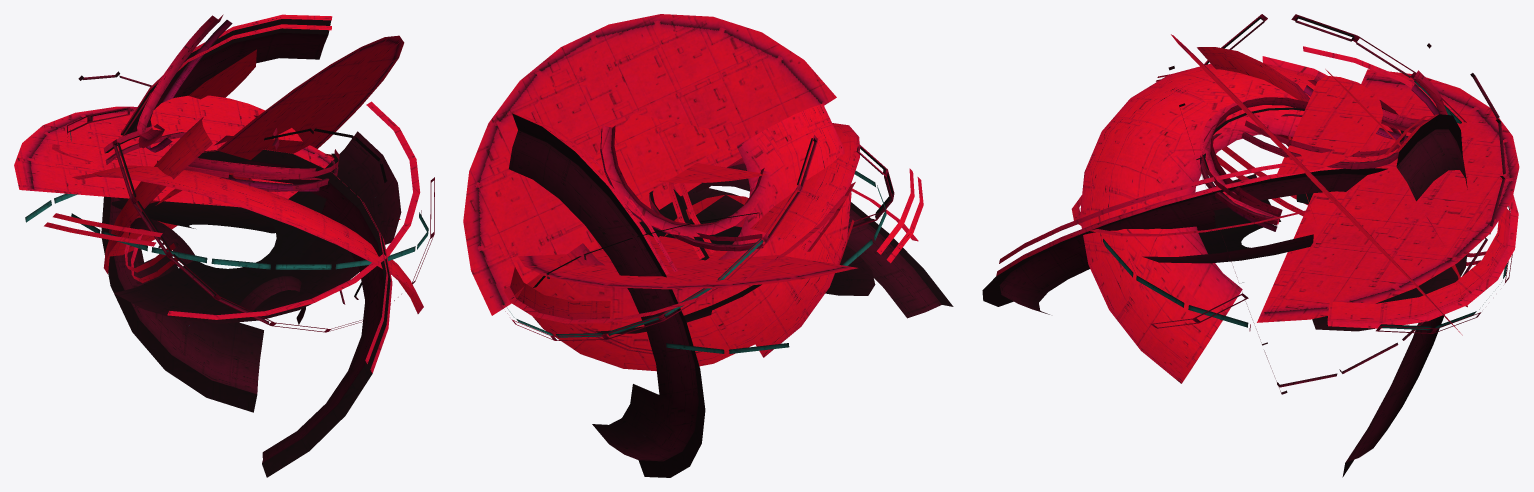
Rendered from MonsterB_Die3.obj.
3 views of the same model, side by side, from view 1: azimuth 30°, elevation 25°; view 2: azimuth 150°, elevation 25°; view 3: azimuth 270°, elevation 25° (orthographic). The views are drawn at different scales.
Visible parts, largest first — view 1: Sphere001; view 2: Sphere001; view 3: Sphere001.
Part boxes in pixels (x1=…): Sphere001: x1=14, y1=14, x2=434, y2=477; Sphere001: x1=463, y1=14, x2=953, y2=477; Sphere001: x1=982, y1=14, x2=1519, y2=477.
Size of the model in its own units: 217 by 220 by 247.
Materials: 1 (1 with a texture image).
